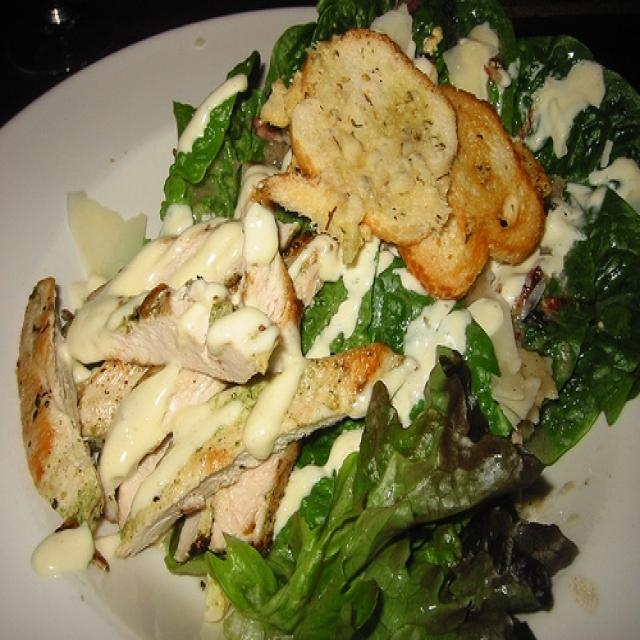蔬菜料理: (15, 11, 621, 632)
